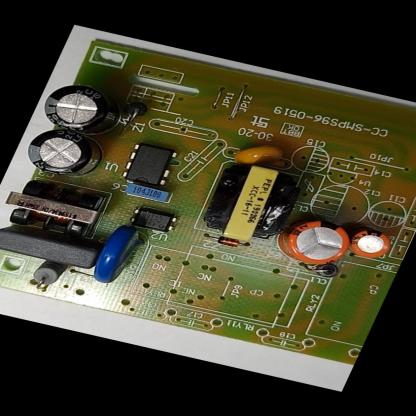Cap1: (268, 210, 361, 273)
Cap2: (343, 222, 400, 263)
Cap3: (15, 120, 116, 186)
Cap4: (32, 75, 134, 142)
MOSFET: (115, 138, 185, 192)
Mov: (80, 218, 153, 289)
Resistor: (19, 256, 71, 298)
Transformer: (192, 156, 308, 249), (0, 170, 113, 242)
